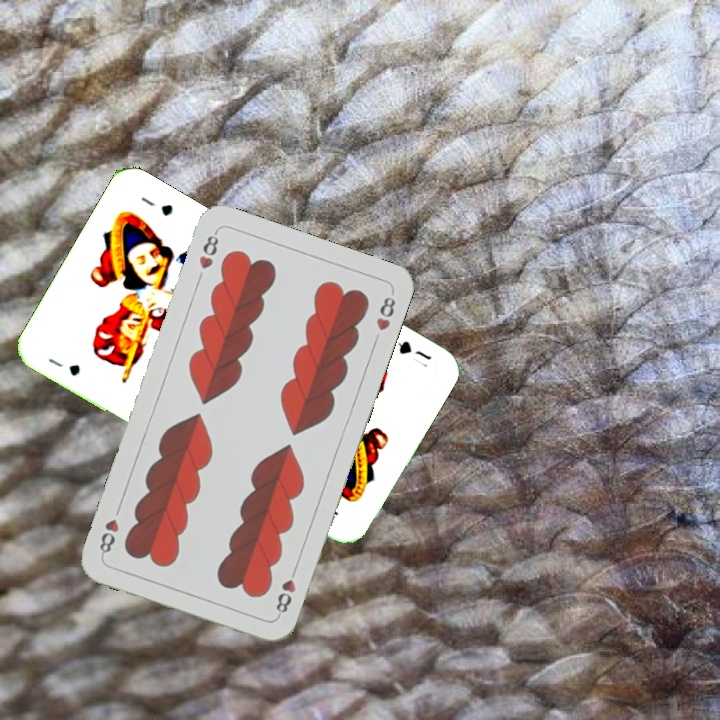GU: (393, 336, 434, 371), (44, 354, 83, 379)
H8: (272, 562, 300, 619), (194, 227, 222, 272)
